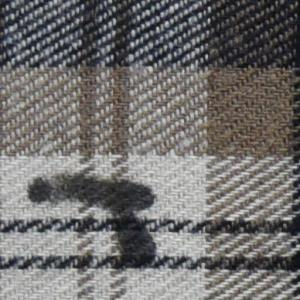Stain: (28, 169, 166, 271)
